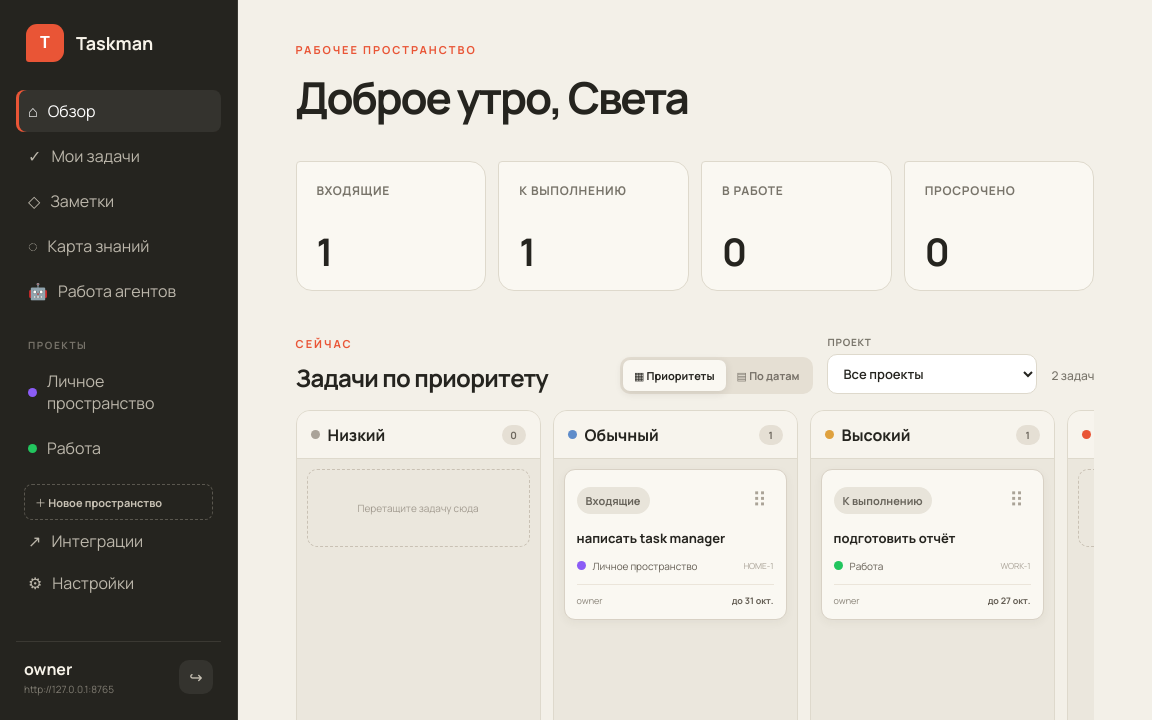
Test case: workspace navigation › renders the priority board, filters projects, and switches to the timeline
Expected: the heading "Доброе утро, Света" is shown, [296,67,688,127]
Expected: the button "написать task manager" is shown, [577,529,774,548]
Select "Работа" in the dropdown at (932, 374), box [827,354,1037,394]
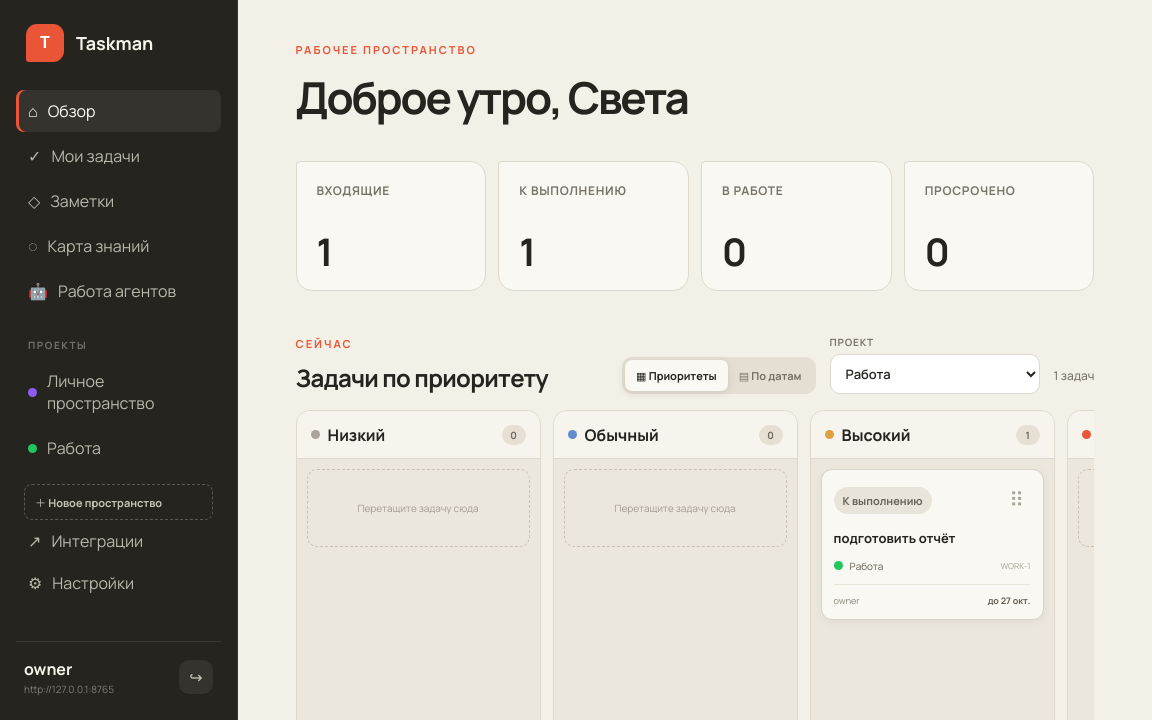
Expected: the button "подготовить отчёт" is shown, [834,529,1031,548]
Expected: the button "написать task manager" is gone
Click the button "▤ По датам" at (770, 376), box [728,360,812,391]
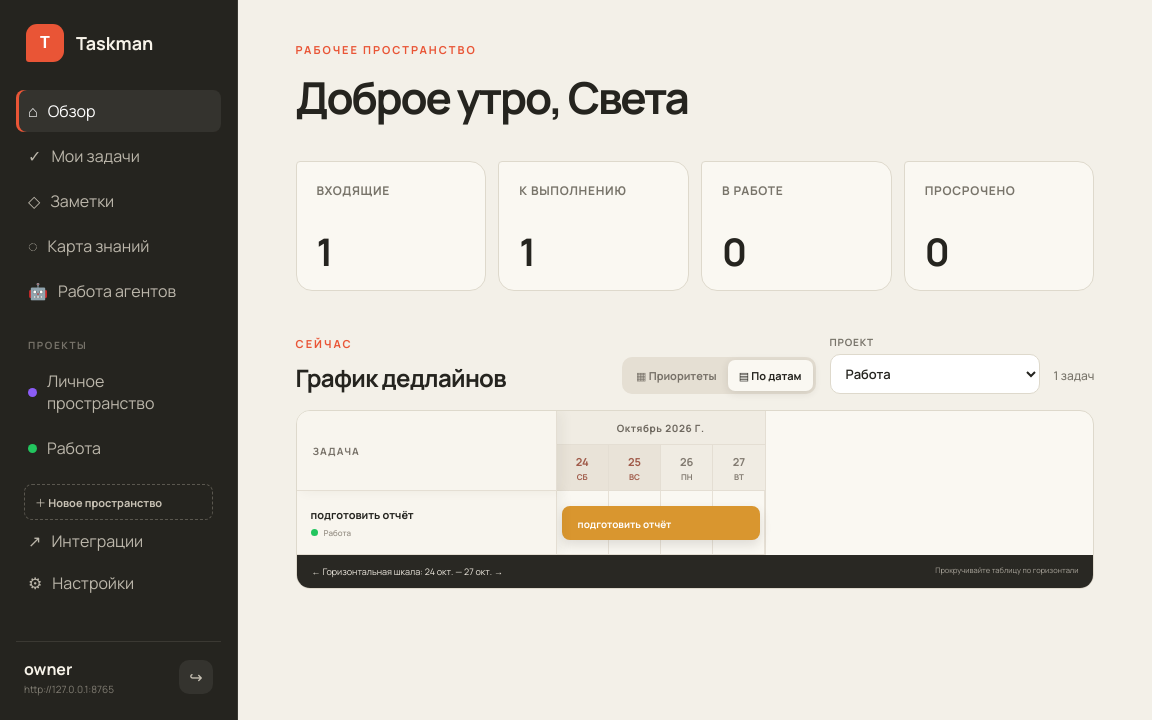
Expected: the text "подготовить отчёт" is shown 2 times, [311,507,414,522]; [578,517,671,531]
Expected: the element with class "timeline-scroll" is shown, [297,411,766,555]
Expected: the number of buttons with class "timeline-task-bar" is 1, [562,506,760,540]
